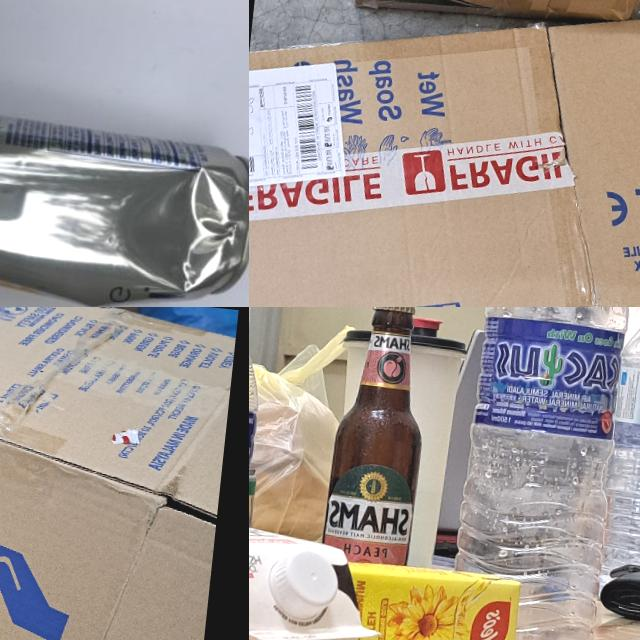caixinha: (249, 513, 393, 640), (329, 556, 521, 640)
garrafa de vidro: (320, 307, 437, 566)
garrafa plástica: (443, 307, 638, 640), (597, 307, 640, 579), (249, 324, 266, 466)
lata: (0, 83, 249, 307)
papelão: (249, 0, 640, 307), (0, 307, 238, 640)
tampa plástica: (266, 548, 342, 621)
